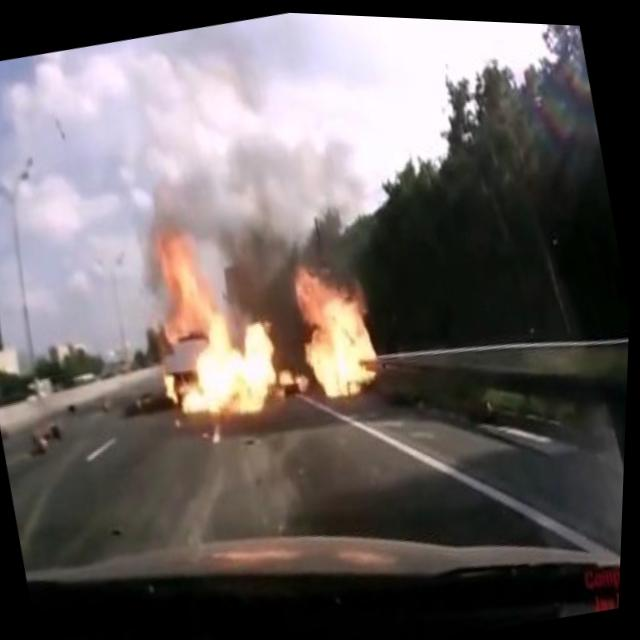fire: (128, 182, 398, 443)
